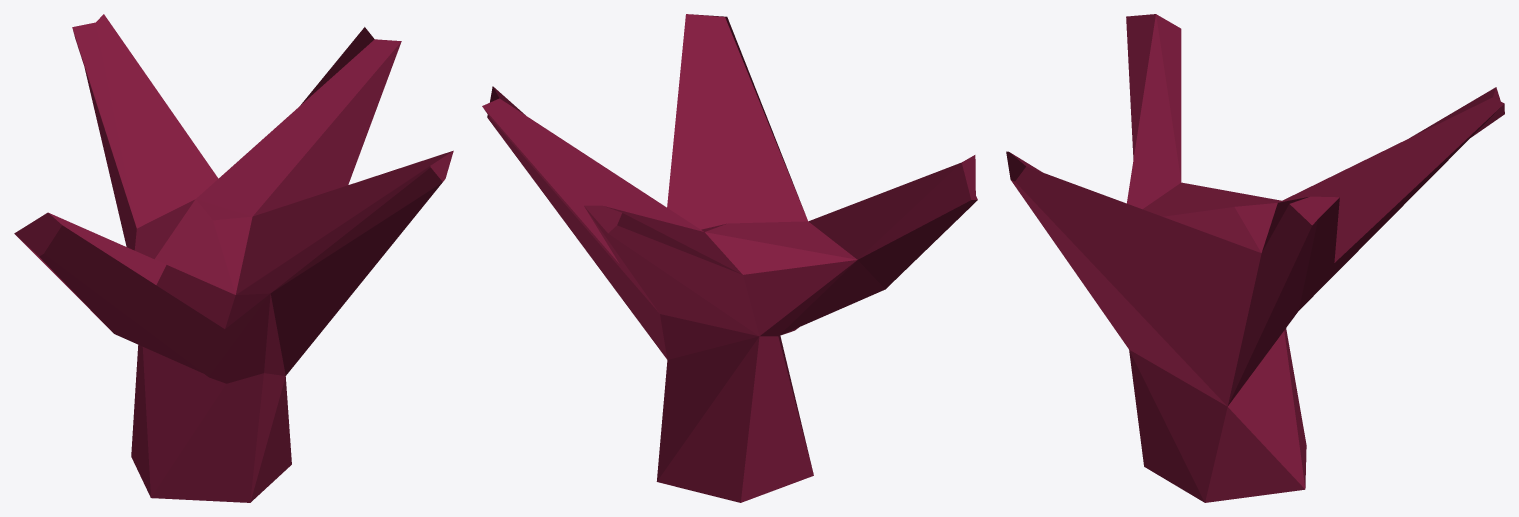
Rendered from Coral1BIG.glb.
3 views of the same model, side by side, from view 1: azimuth 30°, elevation 25°; view 2: azimuth 150°, elevation 25°; view 3: azimuth 270°, elevation 25° (orthographic). The views are drawn at different scales.
Parts seen in each view (by area): view 1: Icosphere.001; view 2: Icosphere.001; view 3: Icosphere.001.
Boxes of the visible parts, left/top/right/bottom form: Icosphere.001: left=14, top=14, right=453, bottom=502; Icosphere.001: left=482, top=14, right=977, bottom=502; Icosphere.001: left=1006, top=14, right=1504, bottom=502.
Size of the model in its own units: 3.28 by 2.55 by 3.07.
